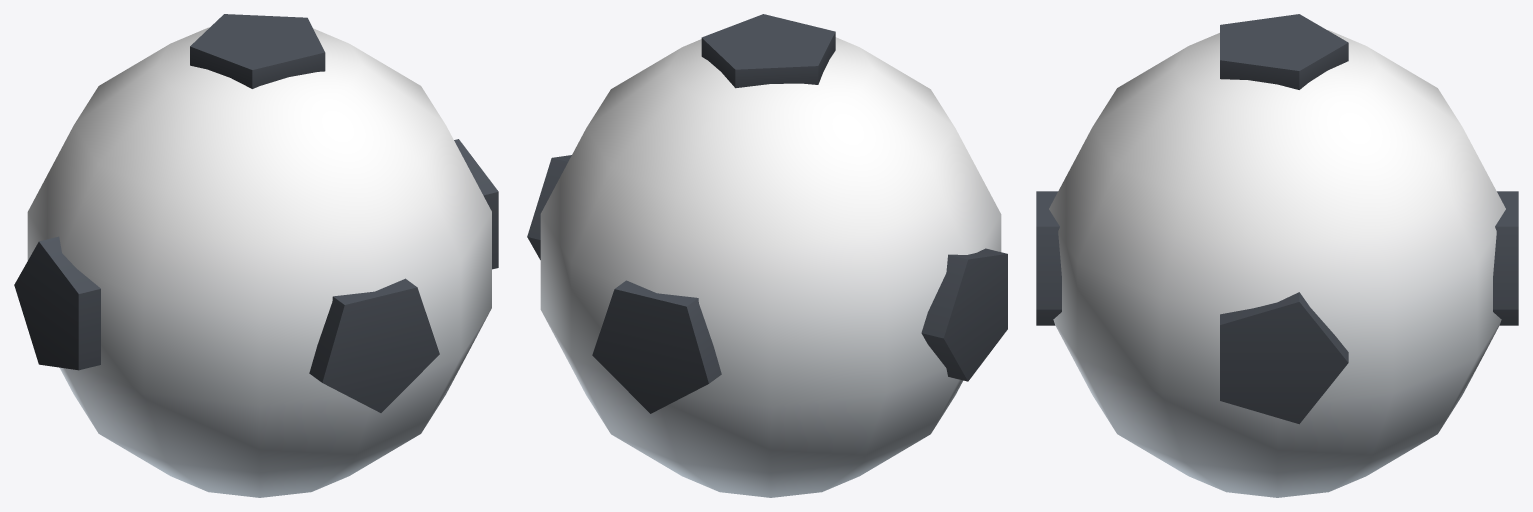
File: ck_soccer_ball.fbx
3 renders of one model, left to right at view 1: azimuth 30°, elevation 25°; view 2: azimuth 150°, elevation 25°; view 3: azimuth 270°, elevation 25°, orthographic.
Visible parts, largest first — view 1: ck_soccer_ball; view 2: ck_soccer_ball; view 3: ck_soccer_ball.
Boxes of the visible parts, x1,y1,x2,y2 form: ck_soccer_ball: (14,14,498,497); ck_soccer_ball: (527,14,1007,497); ck_soccer_ball: (1036,14,1518,497).
Bounding box in the file's own units: 70 × 69.38 × 70.
